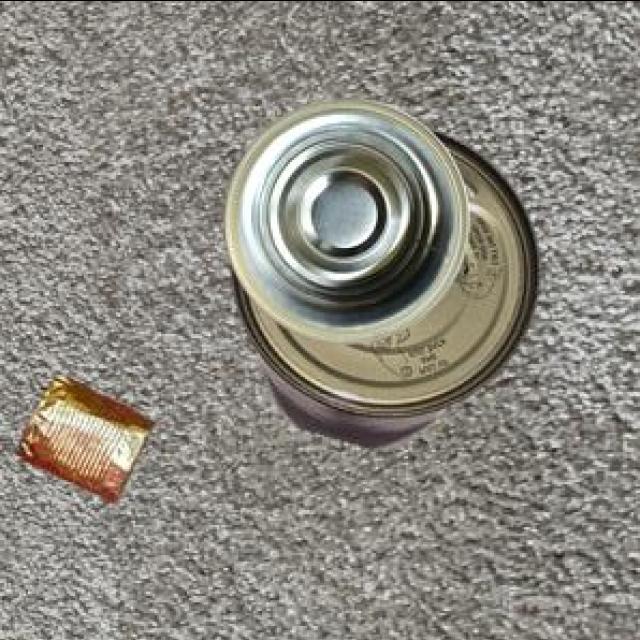logam: (229, 123, 536, 446), (222, 96, 465, 338), (14, 373, 149, 497)
